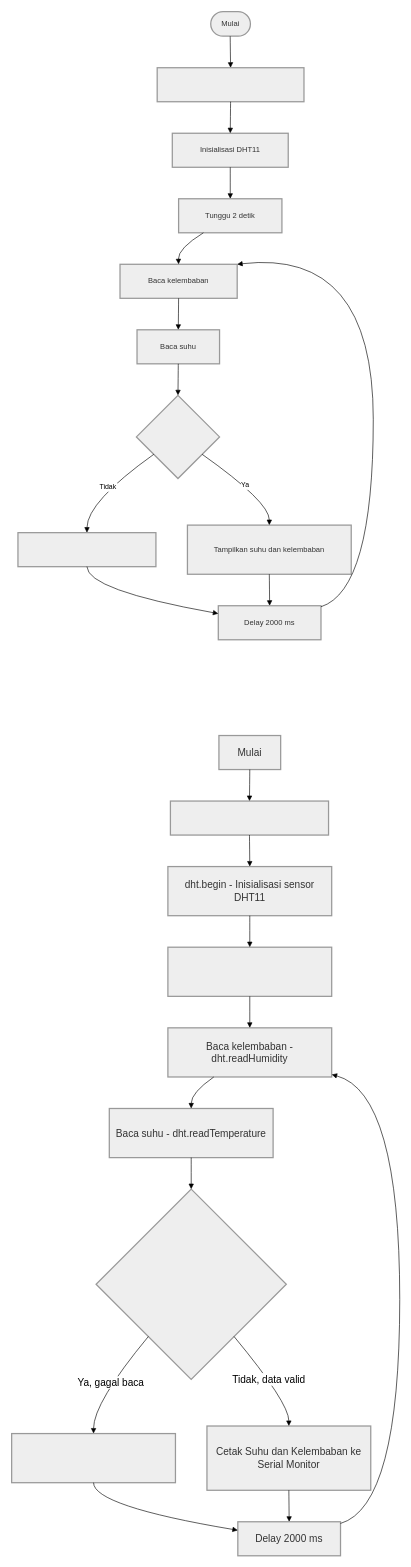
This 411x1567 diagram has some shape labels left out. The shapes that lost their labels are listed below. From the top down, each one's box as (x1, y1, x2, y2) in pixels, then its label:
(156, 67, 304, 102): Inisialisasi Serial 115200
(135, 394, 220, 479): Data valid?
(17, 532, 156, 567): Tampilkan pesan error
(169, 800, 329, 835): Setup: Serial.begin 115200
(167, 946, 332, 997): Cetak pesan: Memulai akuisisi data sensor DHT11
(95, 1188, 287, 1380): Data valid? isnan kelembaban atau suhu
(11, 1433, 176, 1483): Cetak: Gagal membaca data dari sensor DHT11
